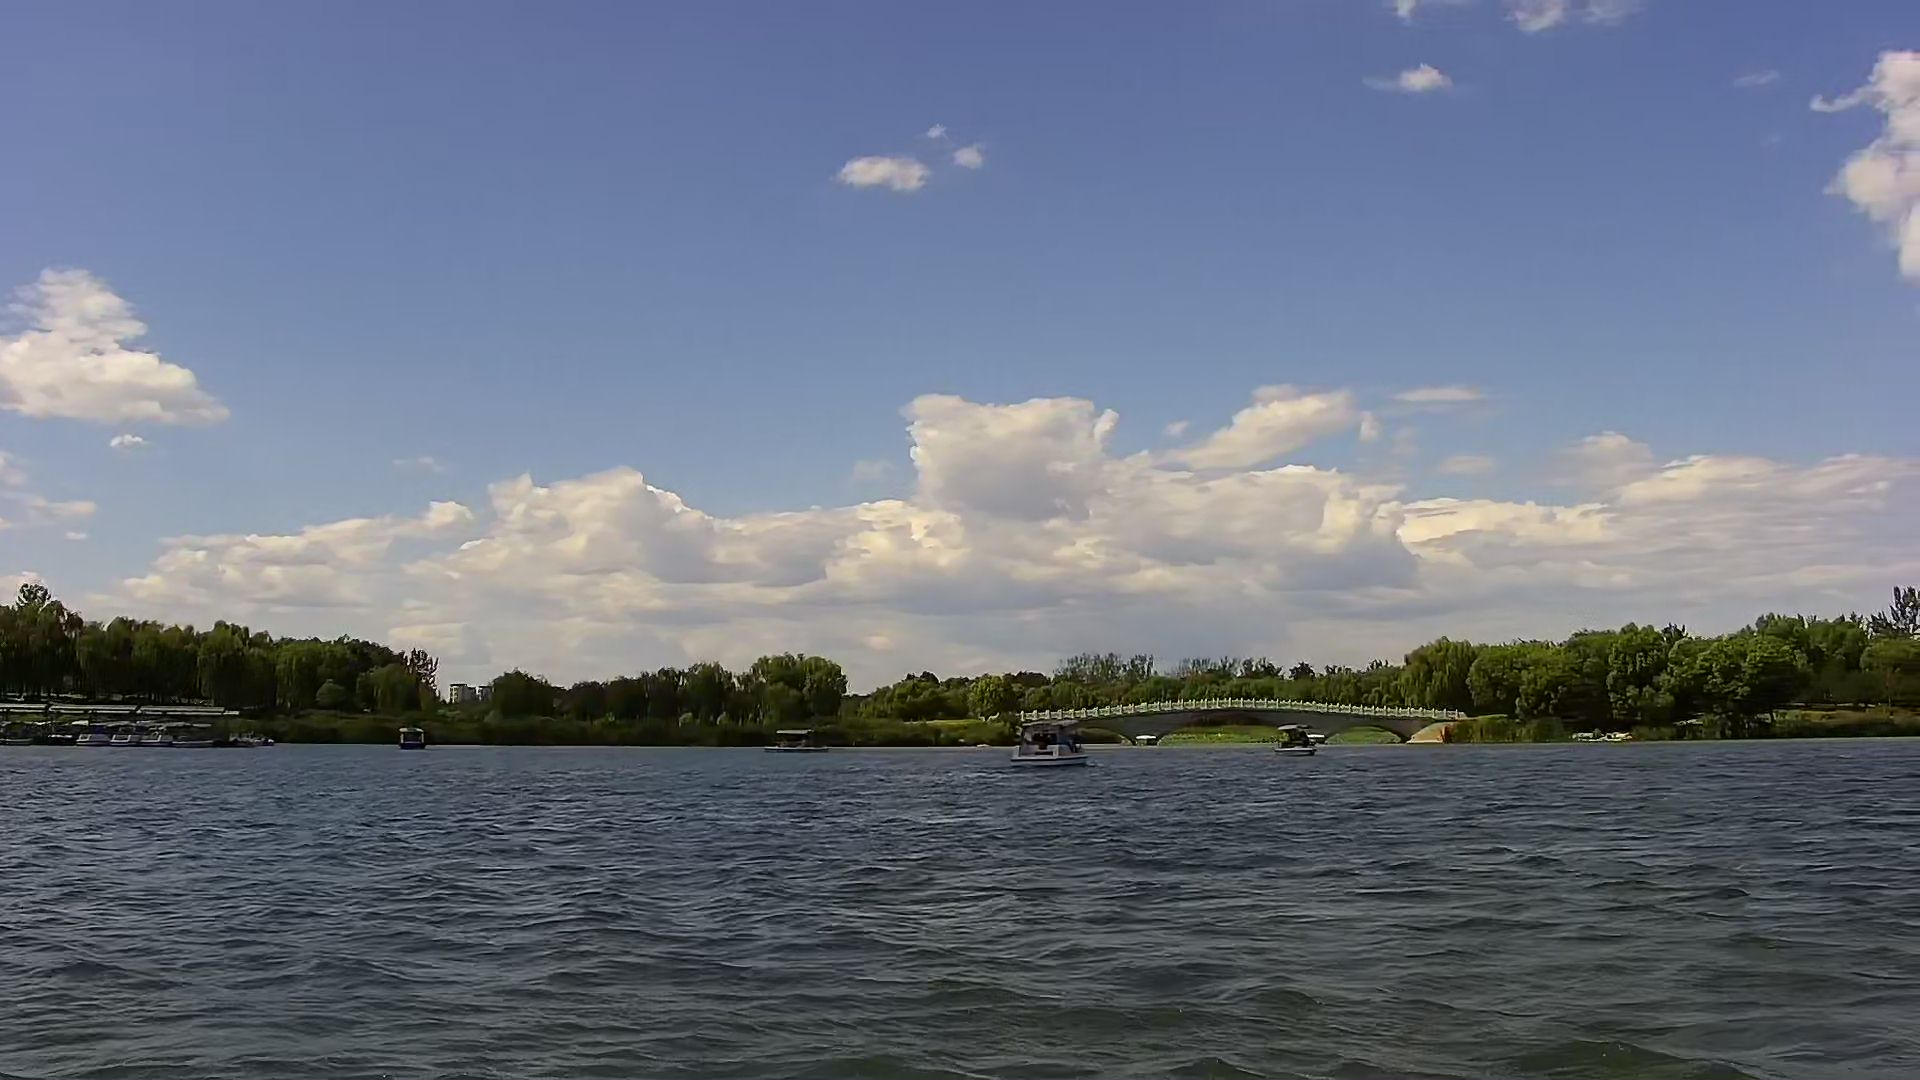boat: (1001, 690, 1453, 748), (1005, 709, 1101, 774), (765, 723, 827, 762), (1275, 720, 1331, 760), (381, 727, 433, 752)
